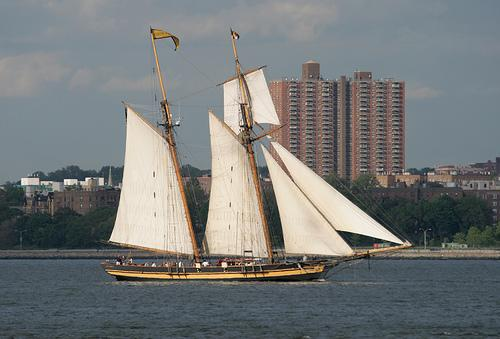Ship: (100, 27, 412, 282)
